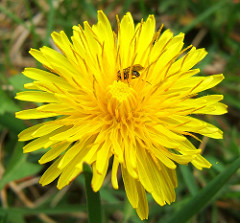dandelion: (13, 7, 238, 221)
